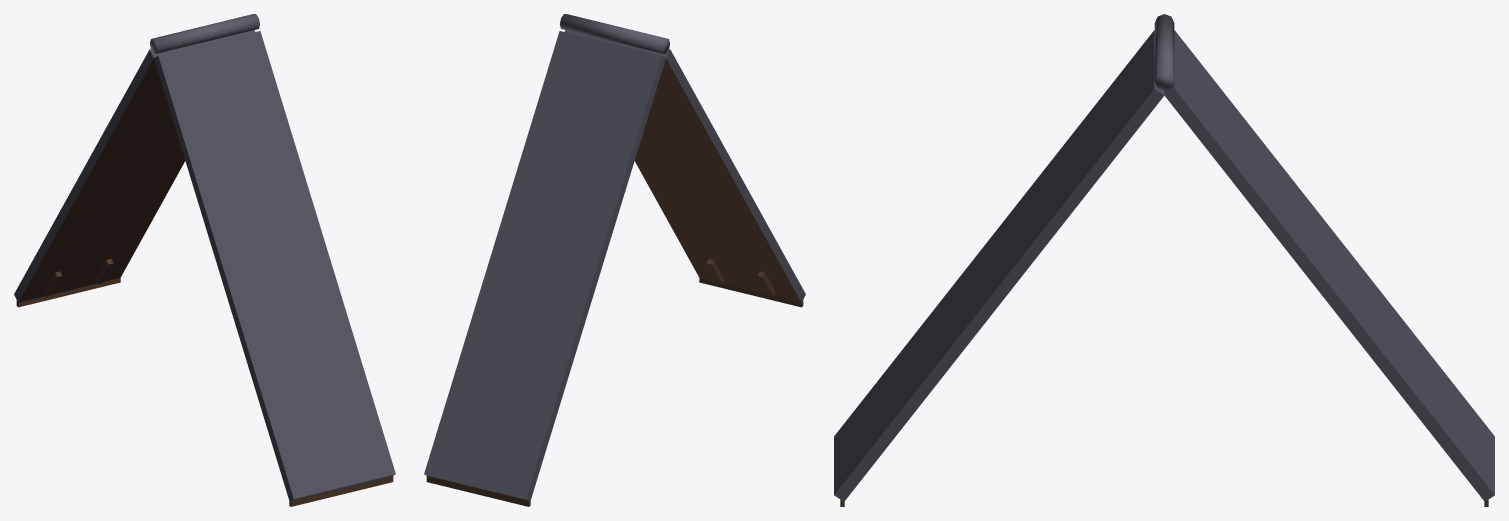
File: kit_church_slate_w4.glb
3 renders of one model, left to right at view 1: azimuth 30°, elevation 25°; view 2: azimuth 150°, elevation 25°; view 3: azimuth 270°, elevation 25°, orthographic. The views are drawn at different scales.
Visible parts, largest first — view 1: kit_church_slate_w4; view 2: kit_church_slate_w4; view 3: kit_church_slate_w4.
Part boxes in pixels (x1,y1,x2,y2): kit_church_slate_w4: (14, 14, 395, 506); kit_church_slate_w4: (424, 14, 805, 506); kit_church_slate_w4: (834, 14, 1494, 506).
Size of the model in its own units: 1 by 3.44 by 4.75.
